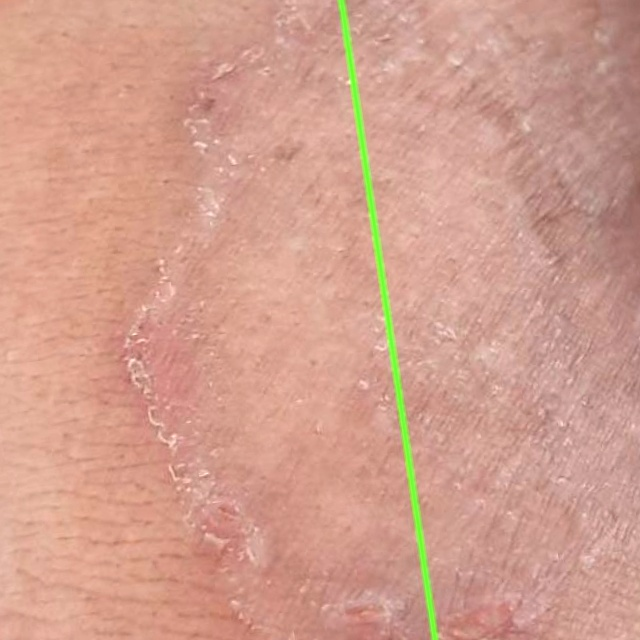Tinea Corporis: (0, 0, 435, 639)
